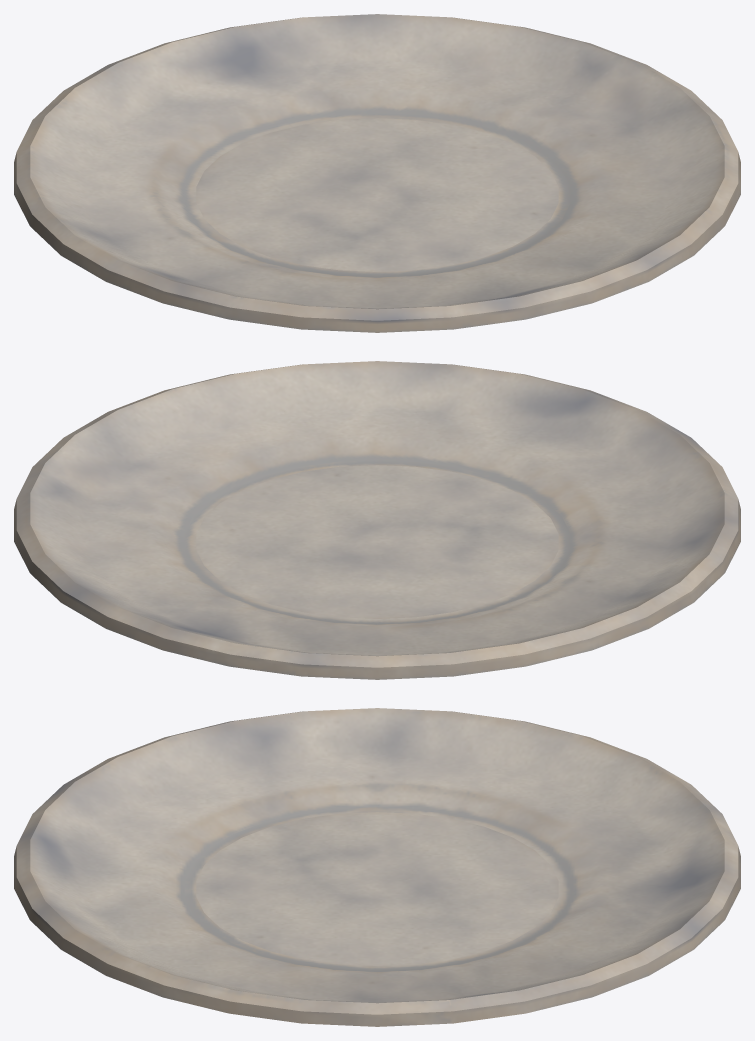
The model's file is 3DArt_Props_Plate_Model_Amanda.fbx.
3 renders of one model, top to bottom at view 1: azimuth 30°, elevation 25°; view 2: azimuth 150°, elevation 25°; view 3: azimuth 270°, elevation 25°, orthographic.
Visible parts, largest first — view 1: Cylinder001; view 2: Cylinder001; view 3: Cylinder001.
Boxes of the visible parts, x1,y1,x2,y2 form: Cylinder001: (14,14,740,332); Cylinder001: (14,361,740,679); Cylinder001: (14,708,740,1026).
Size of the model in its own units: 56.13 by 5.14 by 55.83.
1 material, 1 textured.
